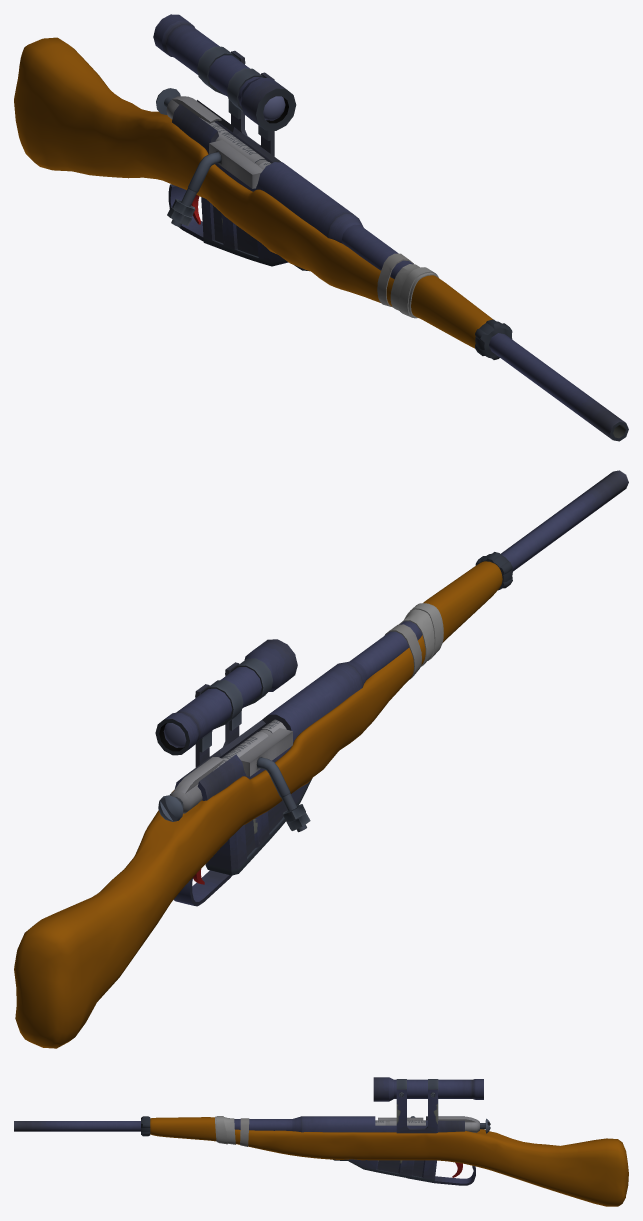
Rendered from Mosin_Preview_old.fbx.
3 renders of one model, top to bottom at view 1: azimuth 30°, elevation 25°; view 2: azimuth 150°, elevation 25°; view 3: azimuth 270°, elevation 25°, orthographic. The views are drawn at different scales.
Parts seen in each view (by area): view 1: char_spudgun_base.001; view 2: char_spudgun_base.001; view 3: char_spudgun_base.001.
Part boxes in pixels (left/top/right/bottom): char_spudgun_base.001: left=14, top=14, right=628, bottom=441; char_spudgun_base.001: left=14, top=470, right=628, bottom=1048; char_spudgun_base.001: left=14, top=1077, right=628, bottom=1206.
Size of the model in its own units: 0.7502 by 1.77 by 7.82.
